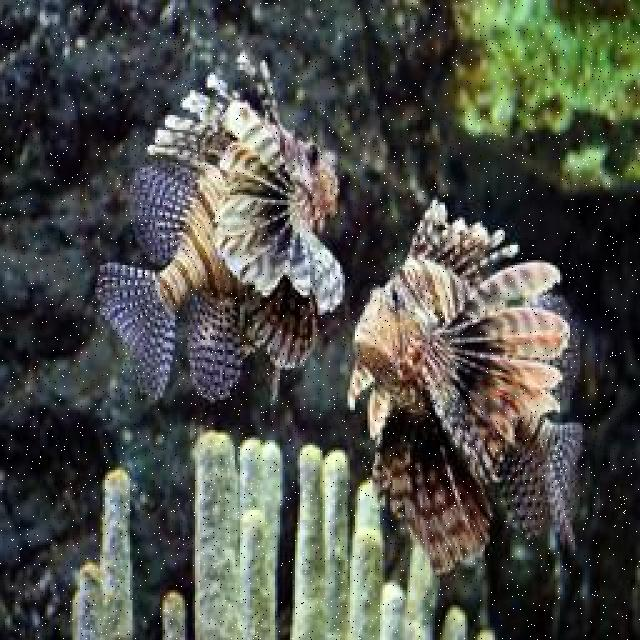aquatic plants: (442, 0, 638, 138)
fish: (343, 200, 586, 572), (100, 48, 347, 398)
reefs: (192, 429, 468, 638)
